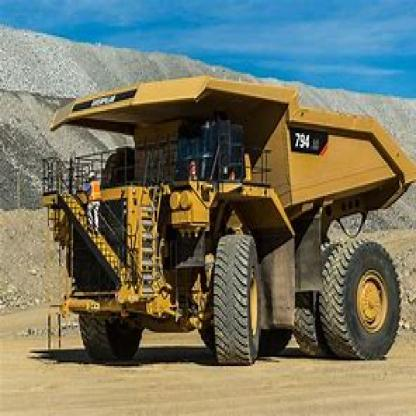dump_truck: (34, 74, 413, 370)
